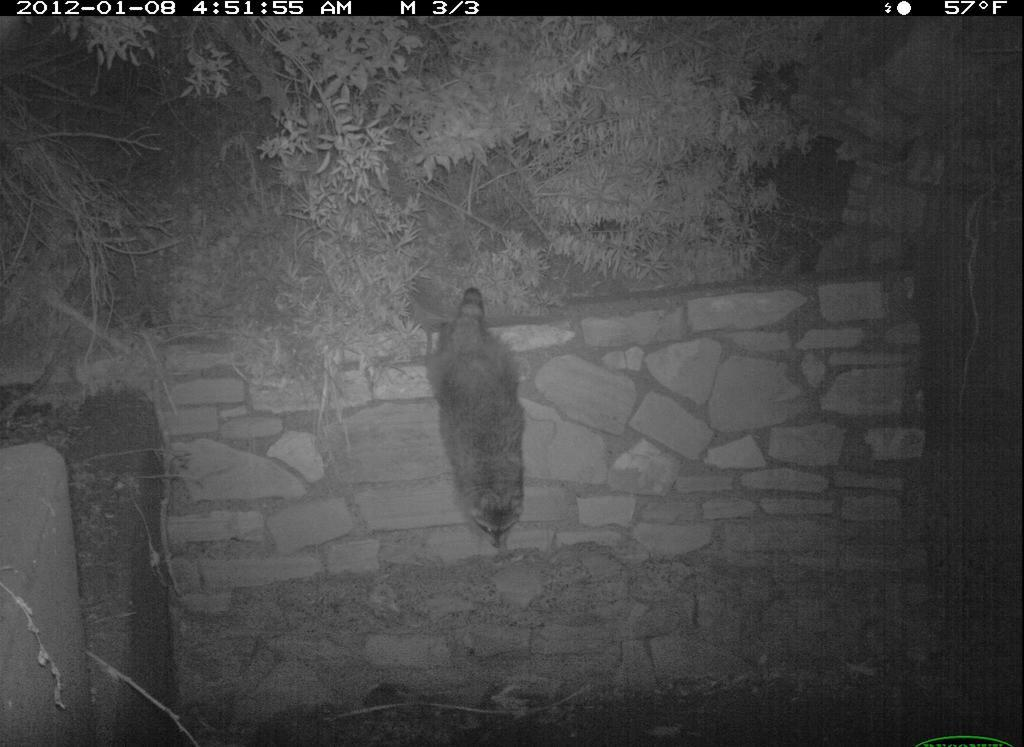raccoon: (409, 265, 548, 583)
